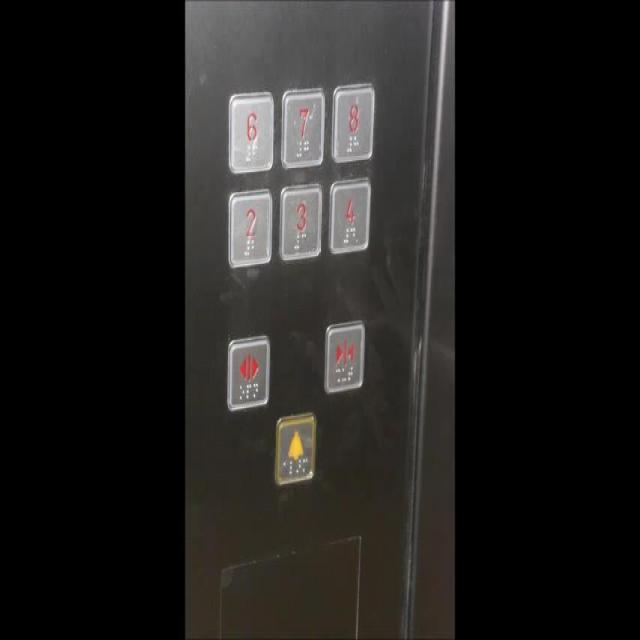2: (223, 181, 274, 272)
3: (275, 176, 326, 267)
4: (324, 169, 374, 260)
6: (225, 87, 276, 177)
7: (278, 81, 328, 172)
8: (327, 76, 378, 167)
alarm: (271, 404, 320, 491)
close: (318, 312, 368, 399)
open: (222, 328, 271, 415)
